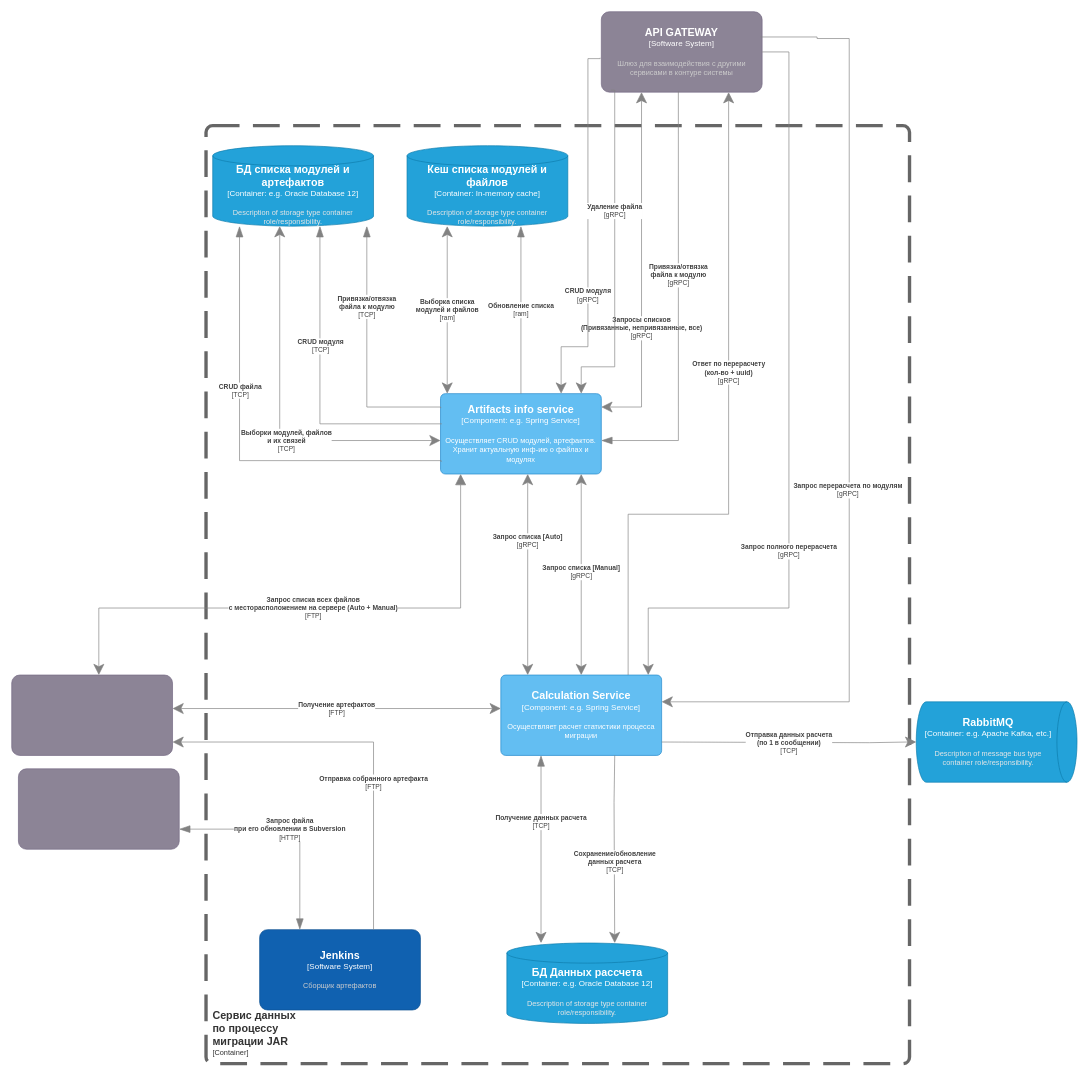
The diagram is 1089 pixels wide and 1077 high, and some of its shapes have lost their labels. The centre of each missing label's shape, as x and y in pixels:
FTP Server [Software System] FTP-Сервер собранных артефактов: the point at 92,714
Subversion [Software System] Description of external software system.: the point at 98,808
